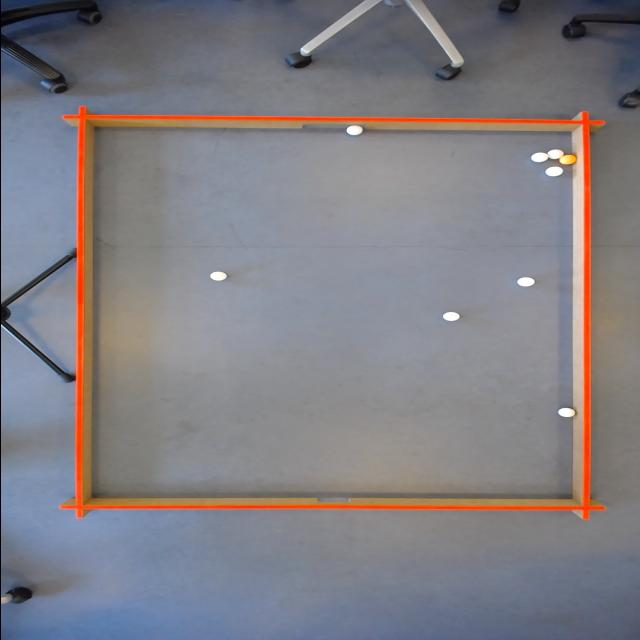orange_ball: (557, 154, 577, 166)
white_ball: (203, 270, 227, 284), (438, 310, 462, 324), (513, 275, 537, 288), (544, 165, 566, 178), (342, 124, 364, 136), (554, 408, 576, 420), (544, 148, 564, 158), (528, 152, 548, 162)
